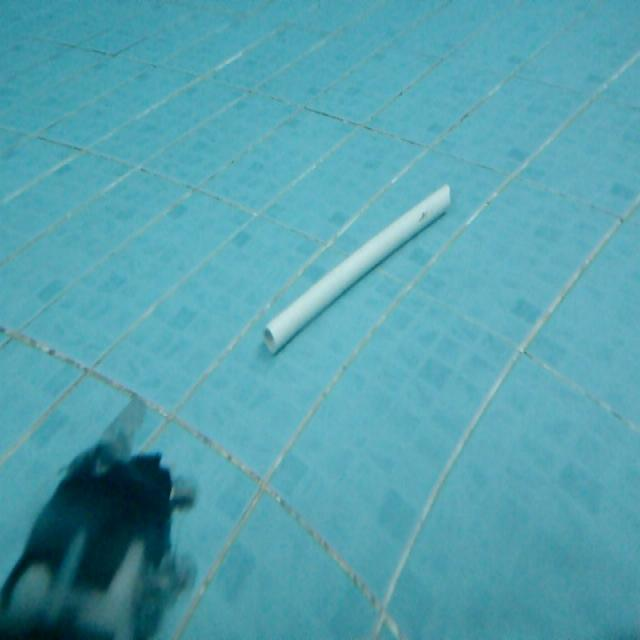Cube: (259, 179, 453, 356)
